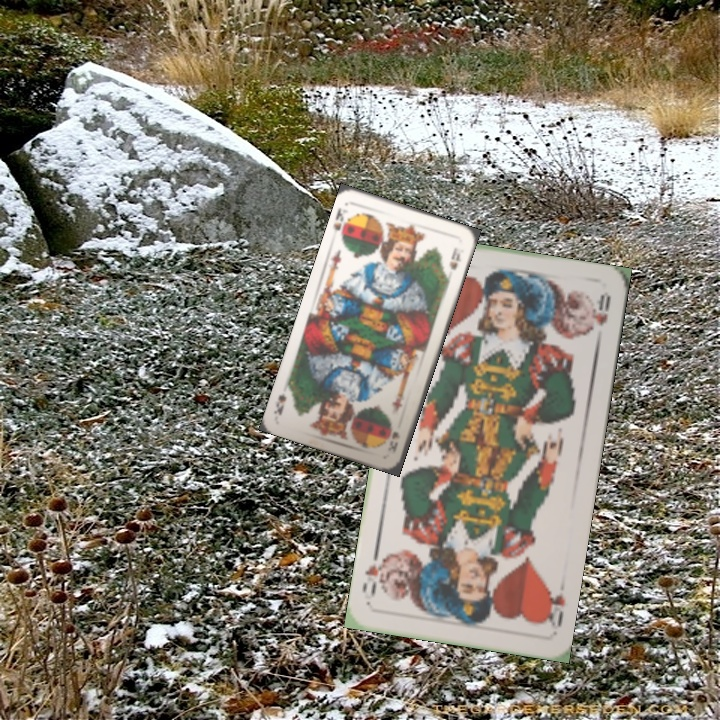HO: (540, 576, 568, 632)
SK: (329, 204, 346, 233), (387, 427, 402, 455)
